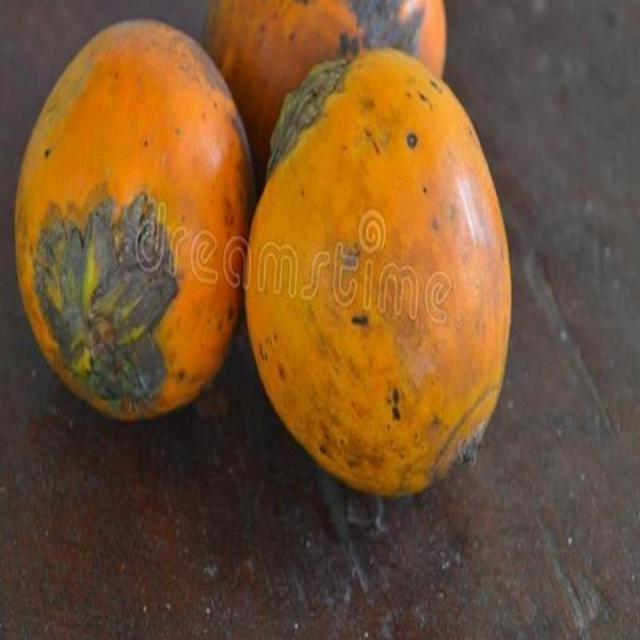good: (245, 48, 512, 500)
